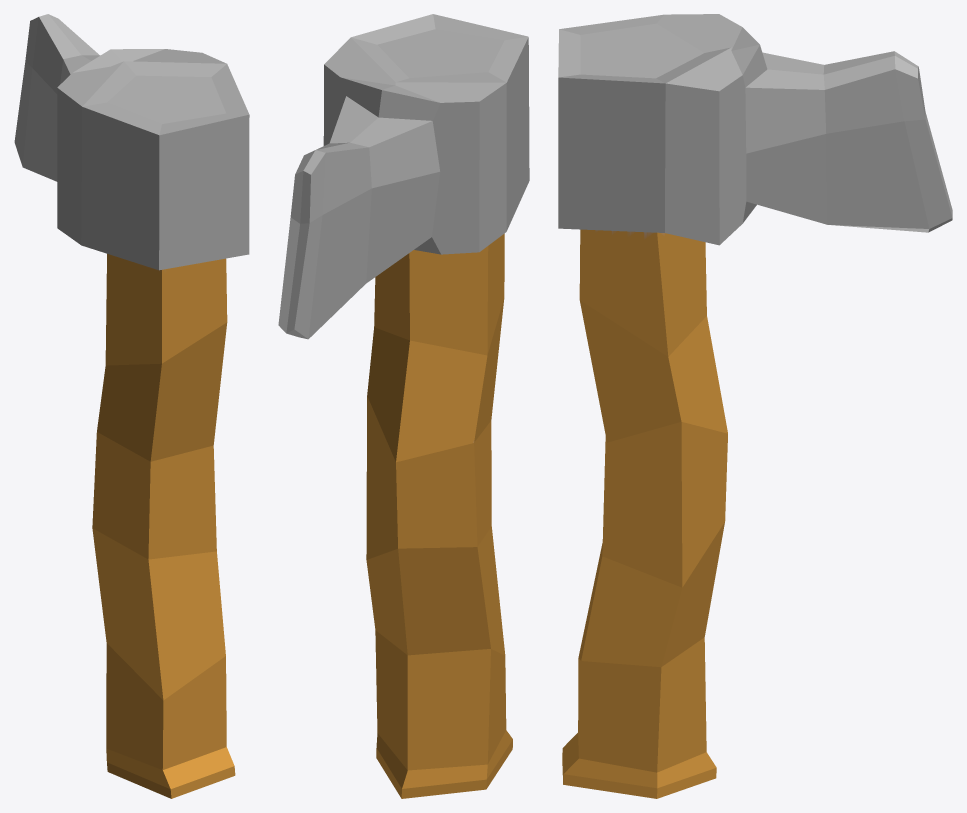
The model's file is Axe.fbx.
3 views of the same model, side by side, from view 1: azimuth 30°, elevation 25°; view 2: azimuth 150°, elevation 25°; view 3: azimuth 270°, elevation 25° (orthographic). The views are drawn at different scales.
Parts seen in each view (by area): view 1: Cylinder; view 2: Cylinder; view 3: Cylinder.
Part boxes in pixels (left/top/right/bottom): Cylinder: left=14, top=14, right=249, bottom=798; Cylinder: left=278, top=14, right=529, bottom=798; Cylinder: left=558, top=14, right=952, bottom=798.
Size of the model in its own units: 268 by 1188 by 579.
1 material, 1 textured.
